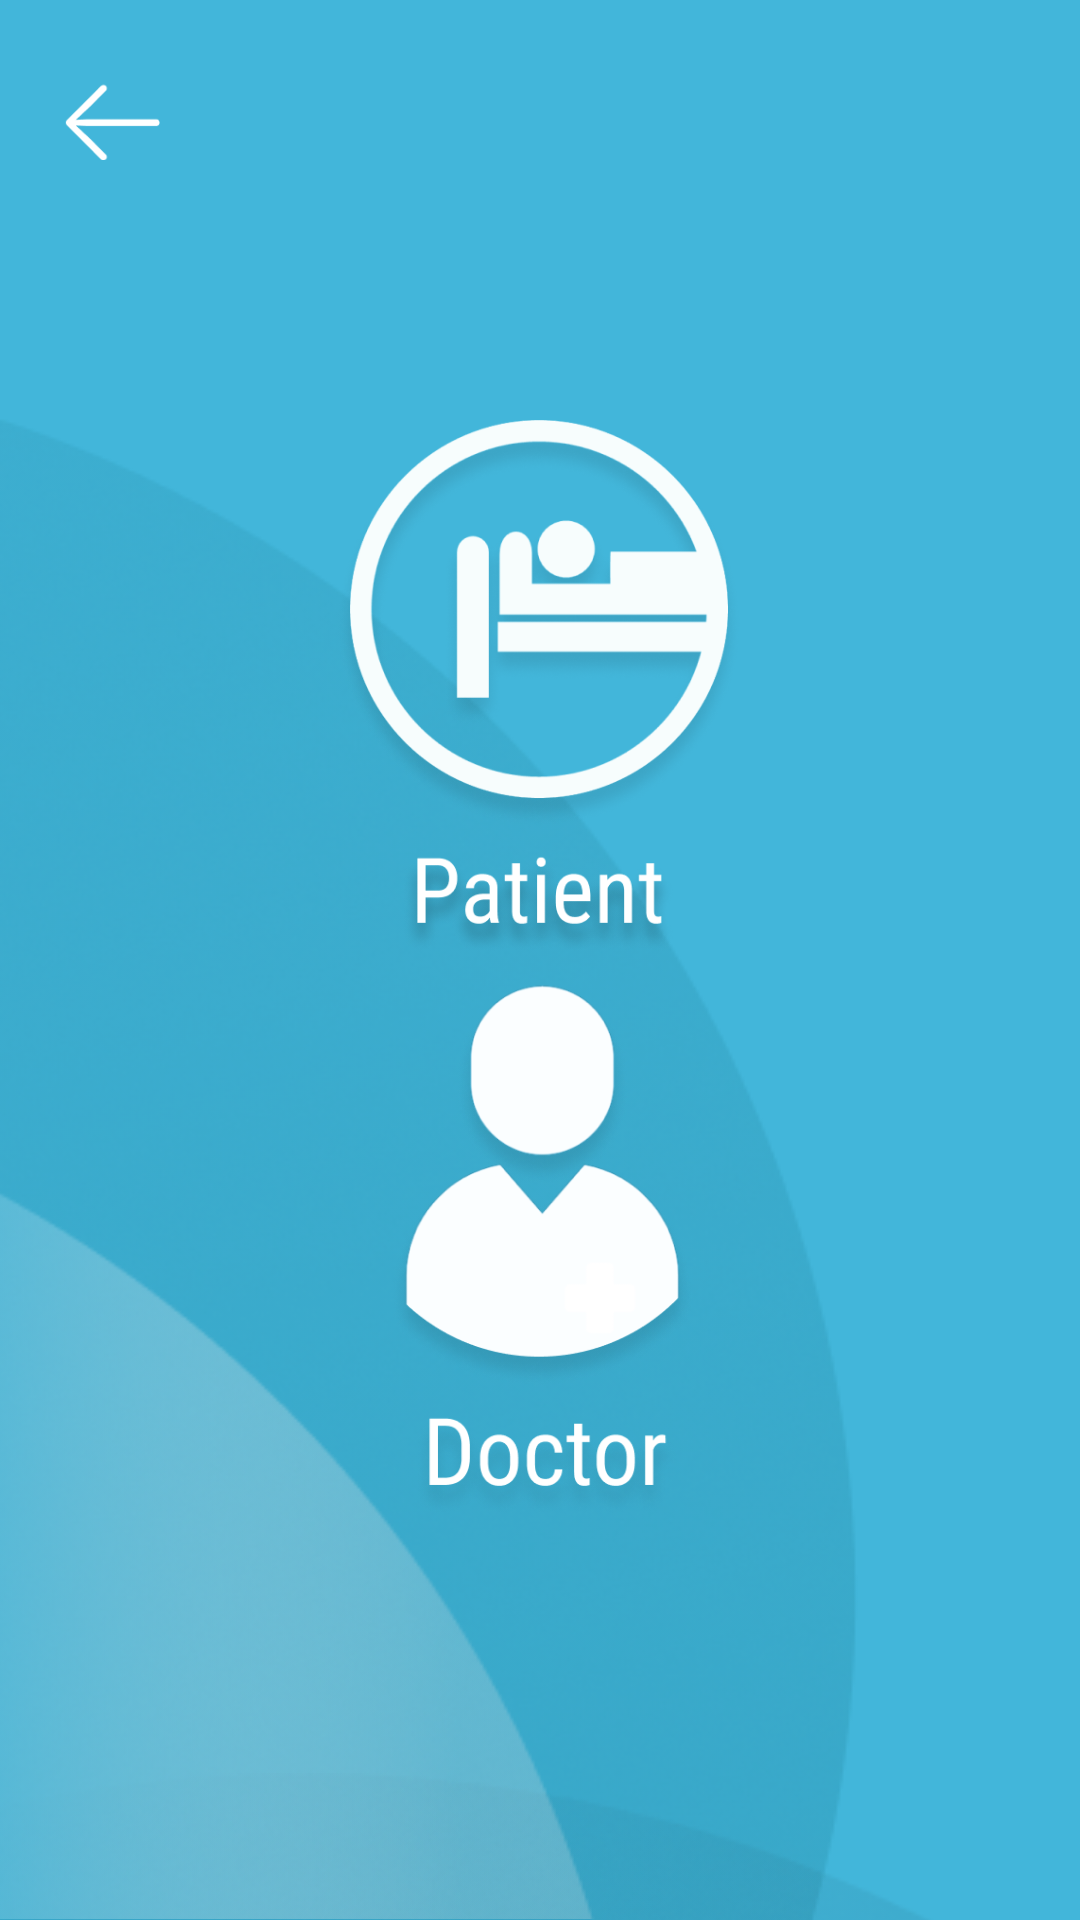

Point at icon controls on the screen. Image size 1080w x 1920h, points as (x=x, y=y).
arrrw: (x=113, y=122)
